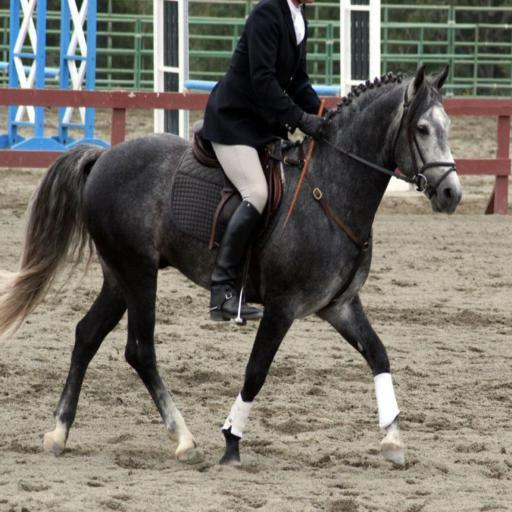horse: (0, 62, 462, 472)
